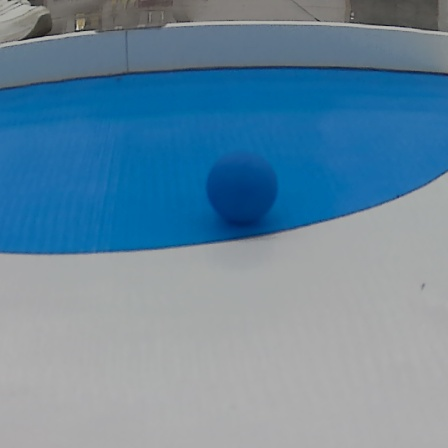blue: (201, 152, 281, 232)
